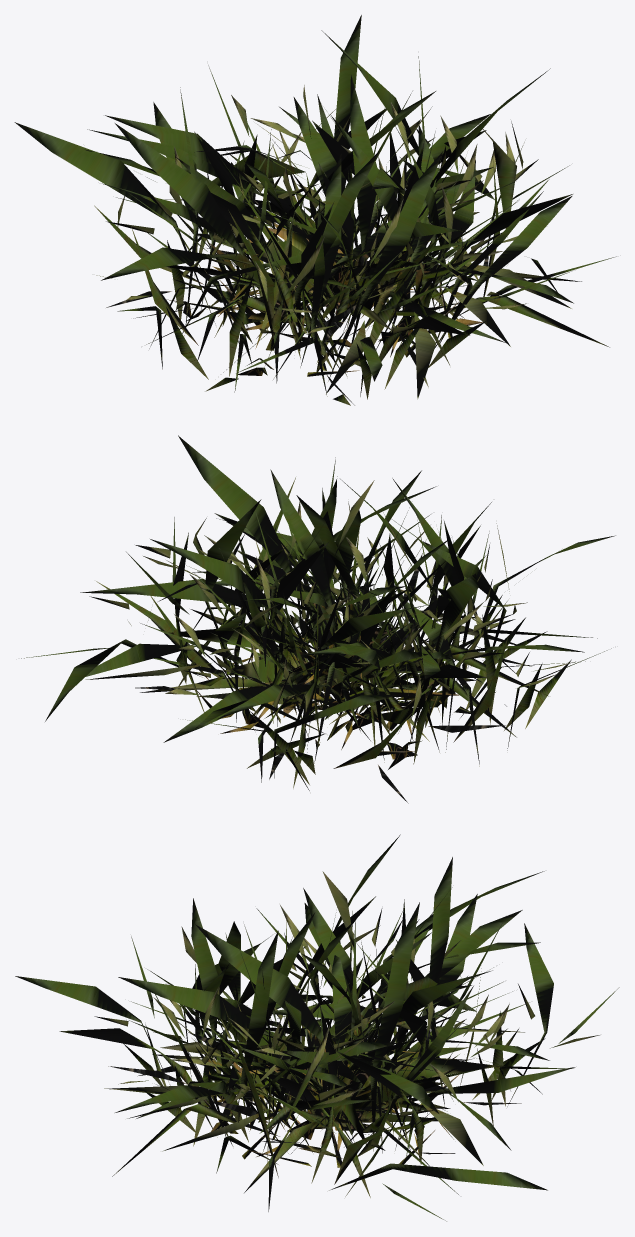
Rendered from grass_a.glb.
The picture shows the model from 3 angles, top to bottom: view 1: azimuth 30°, elevation 25°; view 2: azimuth 150°, elevation 25°; view 3: azimuth 270°, elevation 25°; orthographic projection. The views are drawn at different scales.
Visible parts, largest first — view 1: grass_medium_01_large_a_LOD0; view 2: grass_medium_01_large_a_LOD0; view 3: grass_medium_01_large_a_LOD0.
Part boxes in pixels (bbox=[...]): grass_medium_01_large_a_LOD0: bbox=[14, 15, 616, 405]; grass_medium_01_large_a_LOD0: bbox=[21, 435, 615, 803]; grass_medium_01_large_a_LOD0: bbox=[15, 834, 619, 1221].
Size of the model in its own units: 0.5332 by 0.2502 by 0.55.
1 material, 1 textured.
